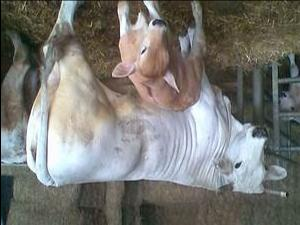cow: (25, 1, 287, 197), (111, 1, 206, 113), (1, 27, 41, 166)
